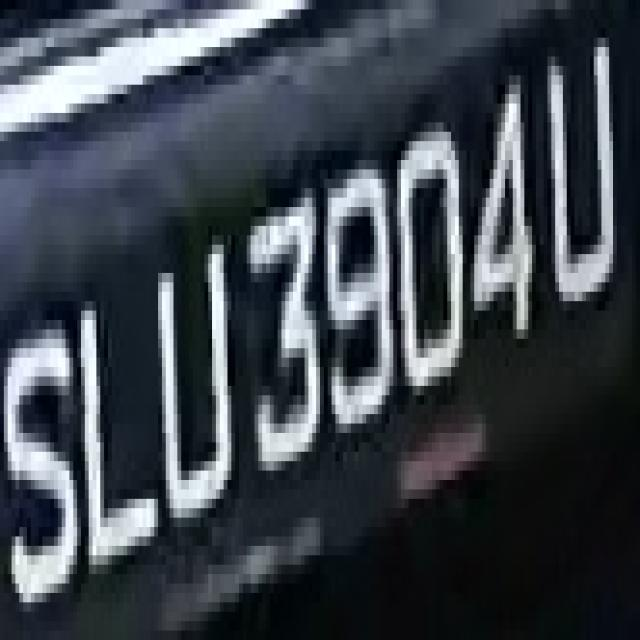0: (382, 113, 478, 414)
3: (239, 170, 316, 490)
4: (466, 75, 544, 358)
9: (305, 150, 401, 470)
L: (66, 302, 166, 602)
S: (4, 301, 89, 631)
U: (142, 235, 246, 527), (532, 38, 632, 330)
